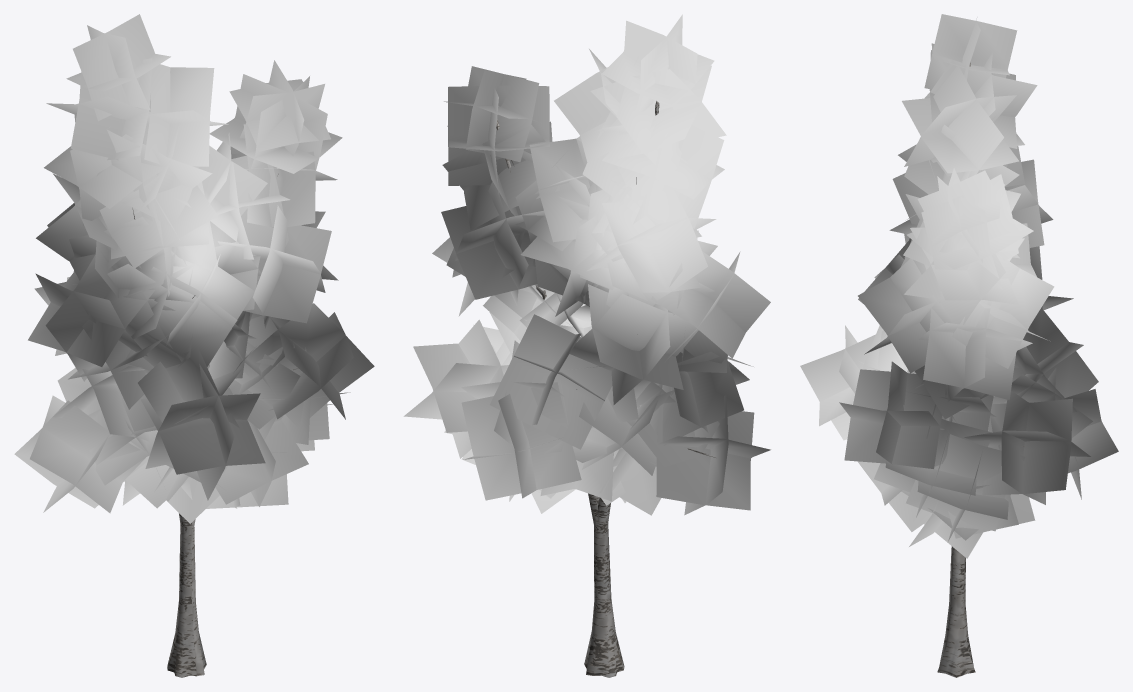
File: tree06_main.fbx
The picture shows the model from 3 angles, left to right: view 1: azimuth 30°, elevation 25°; view 2: azimuth 150°, elevation 25°; view 3: azimuth 270°, elevation 25°; orthographic projection. The views are drawn at different scales.
Visible parts, largest first — view 1: tree.001; view 2: tree.001; view 3: tree.001.
Part boxes in pixels (left/top/right/bottom): tree.001: left=14, top=14, right=374, bottom=677; tree.001: left=403, top=14, right=770, bottom=677; tree.001: left=800, top=14, right=1118, bottom=677.
Bounding box in the file's own units: 731 × 1449 × 672.
